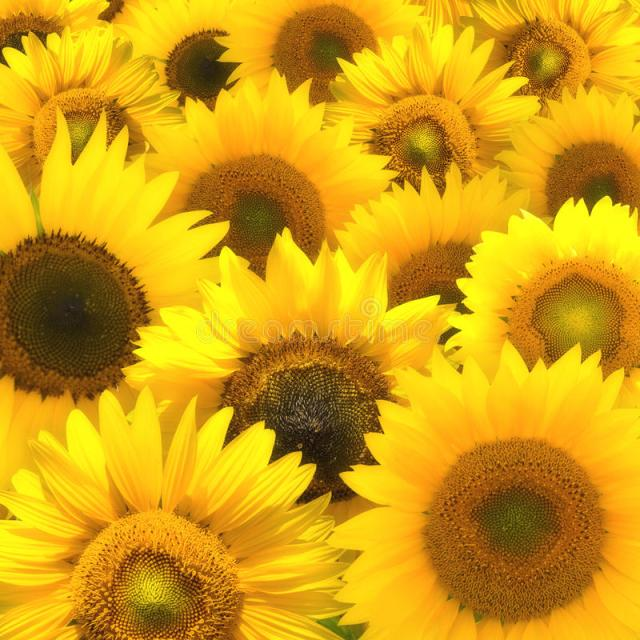sunflower: (0, 108, 290, 506), (321, 337, 640, 640), (3, 383, 340, 640), (125, 242, 466, 463), (133, 85, 404, 292), (302, 30, 522, 208), (447, 193, 640, 384)
